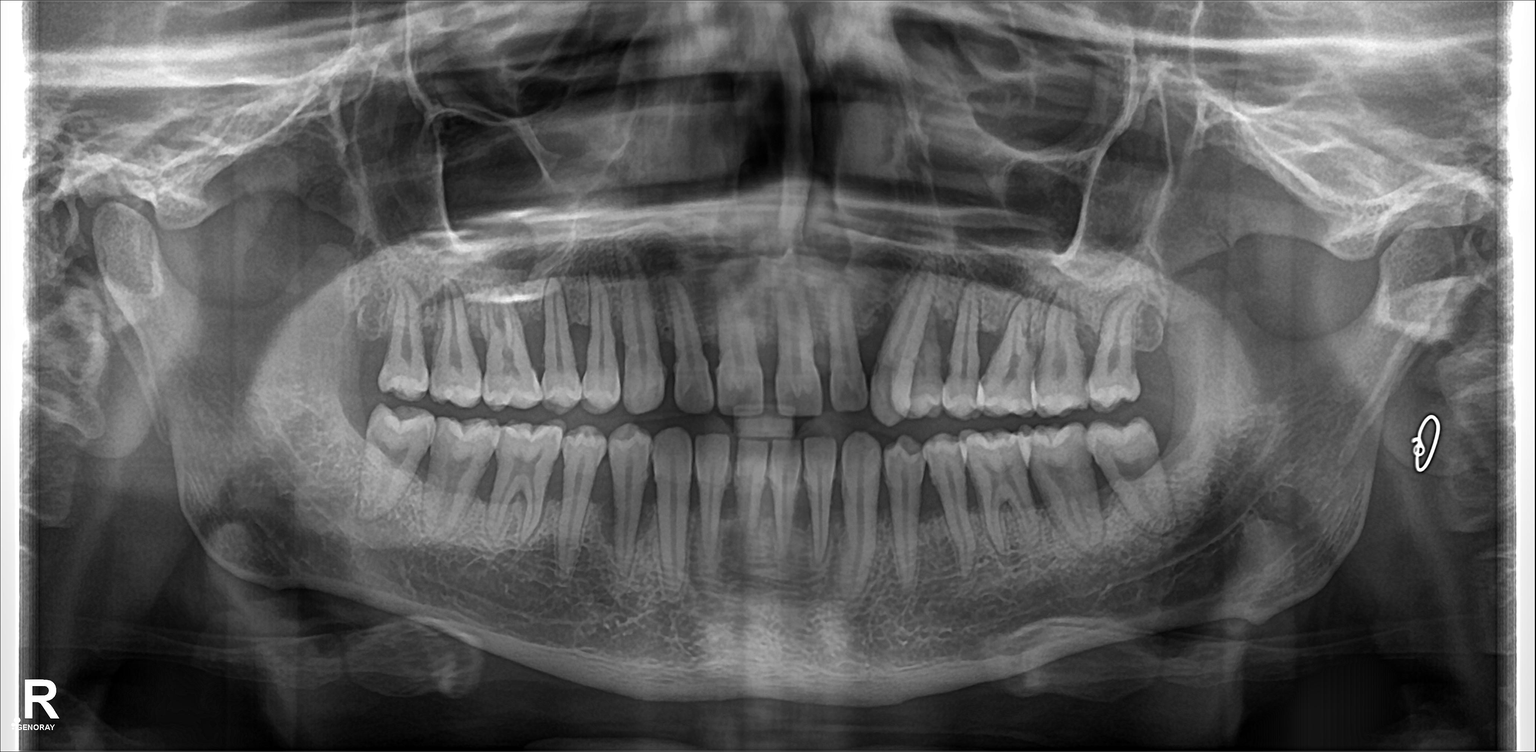Missing Tooth: (345, 285, 390, 378), (1132, 305, 1178, 384)
